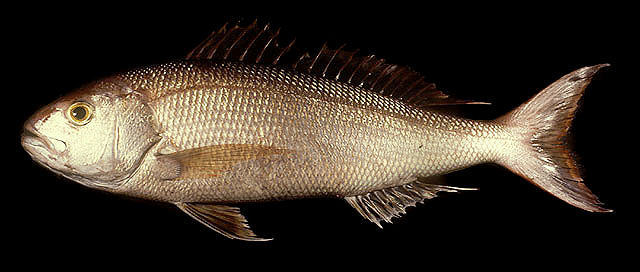fish: (20, 22, 612, 242)
